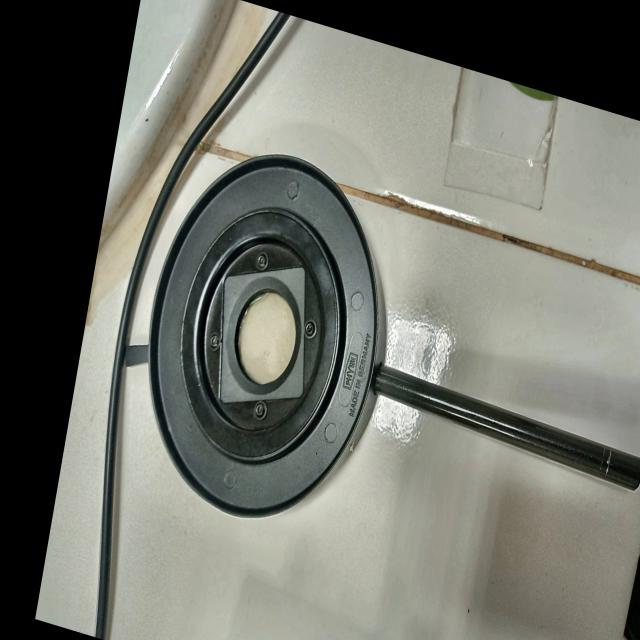Optical Polarizer: (99, 101, 640, 640)
